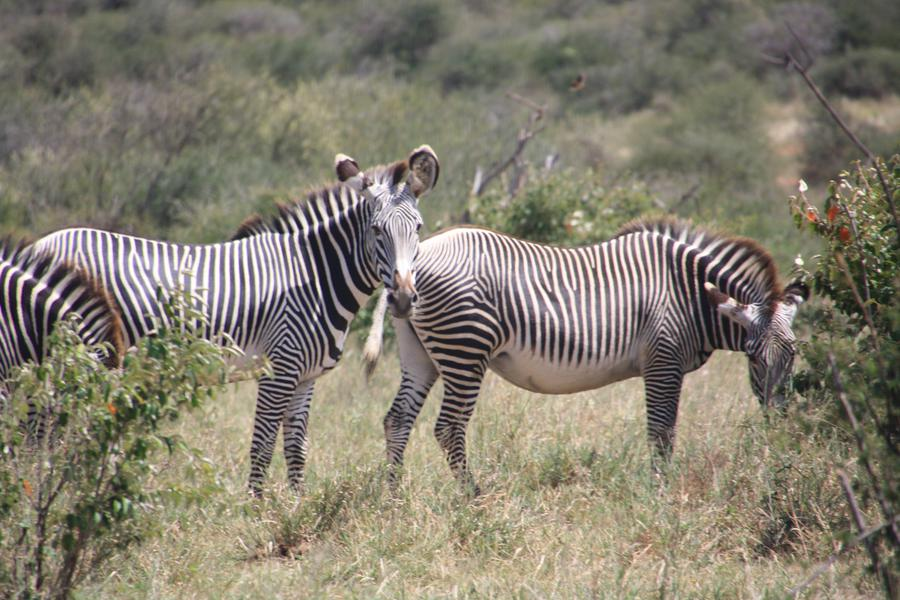zebra_grevys: (428, 217, 704, 376)
